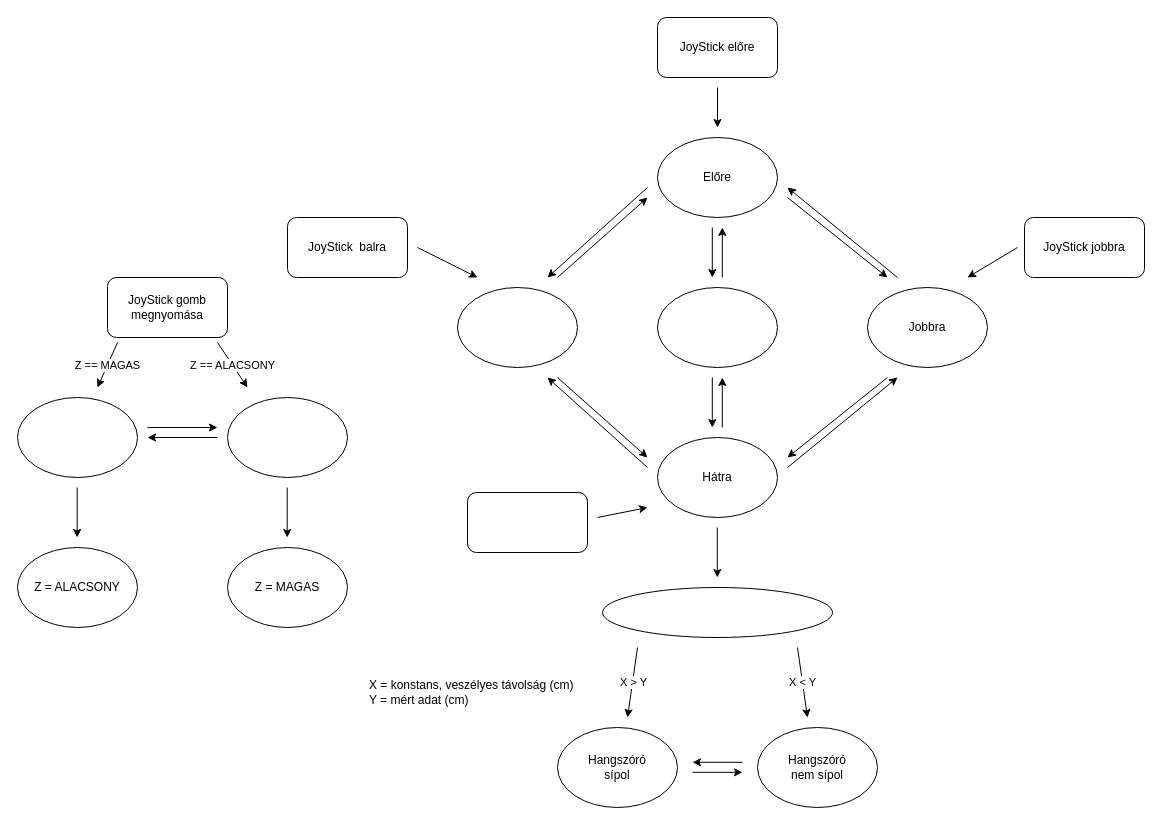
Image size: 1162x825. Some labels were removed from this diagram. The shapes that lost their labels are listed below. From the top down, each one's centre as x and y in pixels, then its label:
At point 517,327: "Balra".
At point 717,327: "Áll".
At point 77,437: "LED világít".
At point 287,437: "LED nem világít".
At point 527,522: "JoyStick hátra".
At point 717,612: "Ultrahangos szenzor mér".
